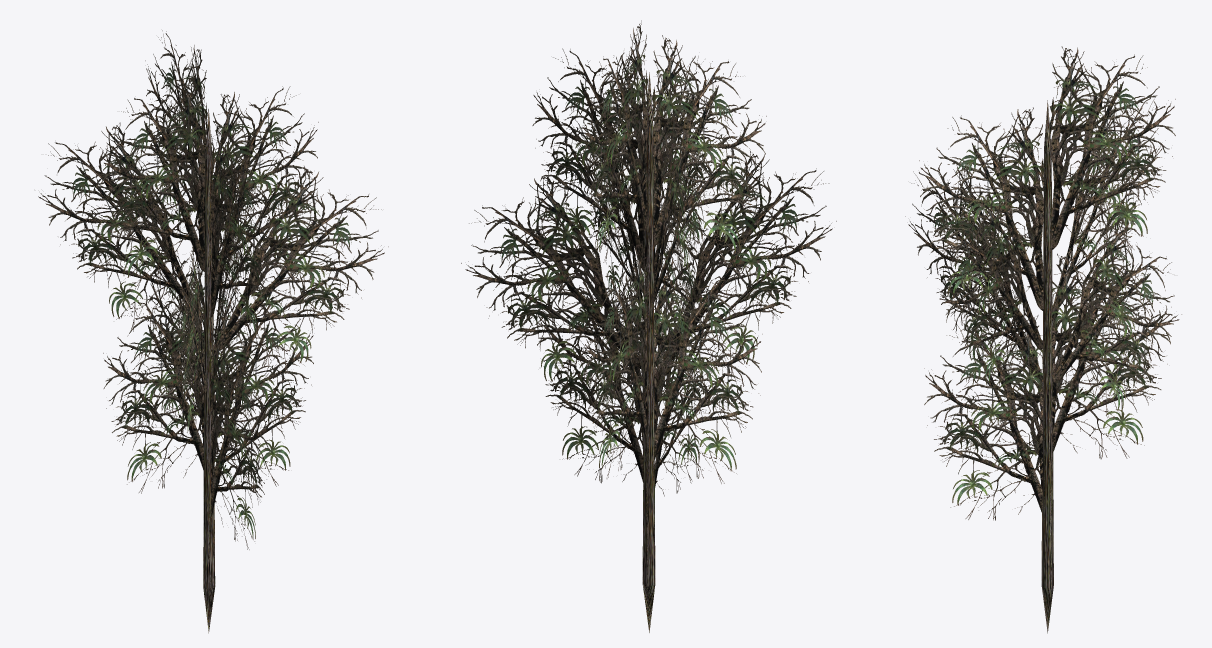
The model's file is leaf_dath_ongmuelplant_l0.fbx.
3 views of the same model, side by side, from view 1: azimuth 30°, elevation 25°; view 2: azimuth 150°, elevation 25°; view 3: azimuth 270°, elevation 25° (orthographic). The views are drawn at different scales.
Visible parts, largest first — view 1: mesh_node; view 2: mesh_node; view 3: mesh_node.
Boxes of the visible parts, bbox=[...] form: mesh_node: bbox=[38, 30, 388, 633]; mesh_node: bbox=[461, 20, 836, 632]; mesh_node: bbox=[905, 46, 1181, 633].
Size of the model in its own units: 2.27 by 4.65 by 2.22.
